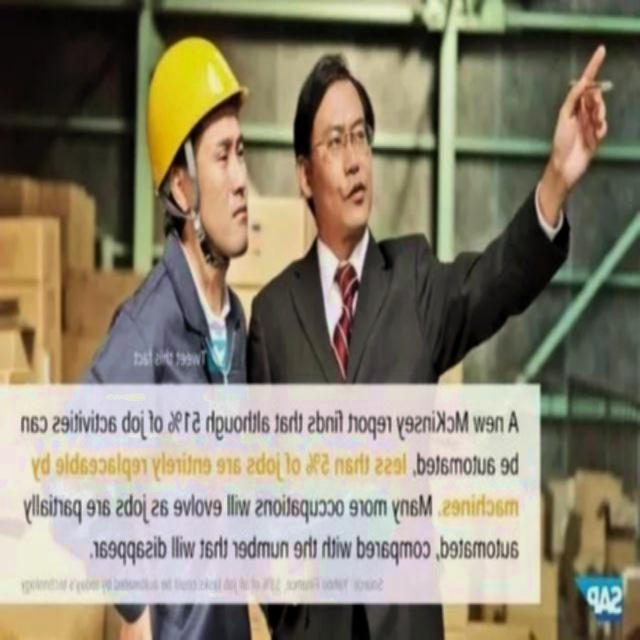Con_Casco: (149, 39, 254, 255)
Sin_Casco_Mascarrilla: (292, 57, 375, 235)
